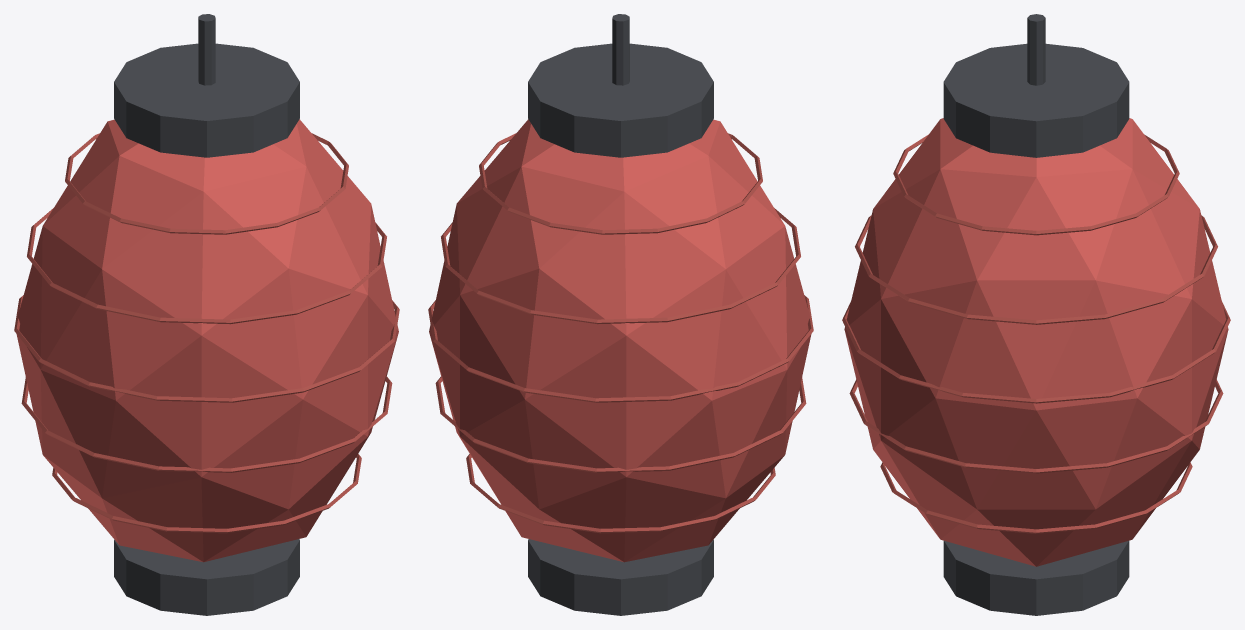
The model's file is chochin_lantern.glb.
The picture shows the model from 3 angles, left to right: view 1: azimuth 30°, elevation 25°; view 2: azimuth 150°, elevation 25°; view 3: azimuth 270°, elevation 25°; orthographic projection.
Parts seen in each view (by area): view 1: geometry_0; view 2: geometry_0; view 3: geometry_0.
Part boxes in pixels (x1=…): geometry_0: x1=14, y1=14, x2=399, y2=615; geometry_0: x1=428, y1=14, x2=813, y2=615; geometry_0: x1=842, y1=14, x2=1230, y2=615.
Size of the model in its own units: 0.3847 by 0.61 by 0.3847.
